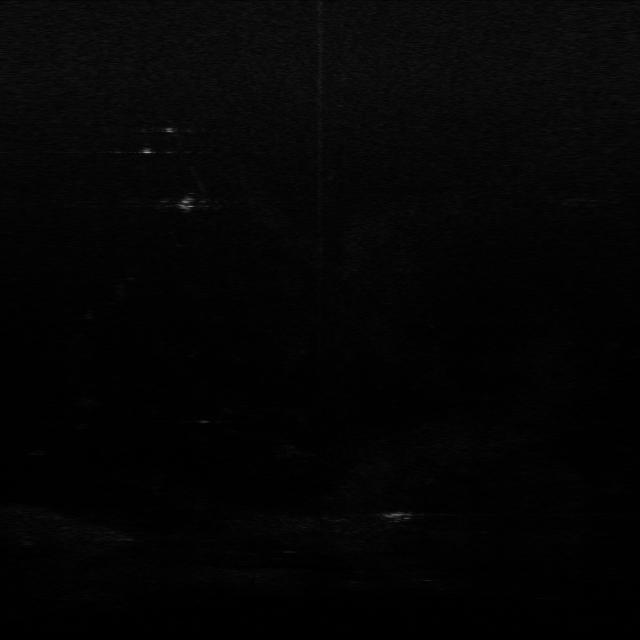rov: (174, 194, 197, 214)
